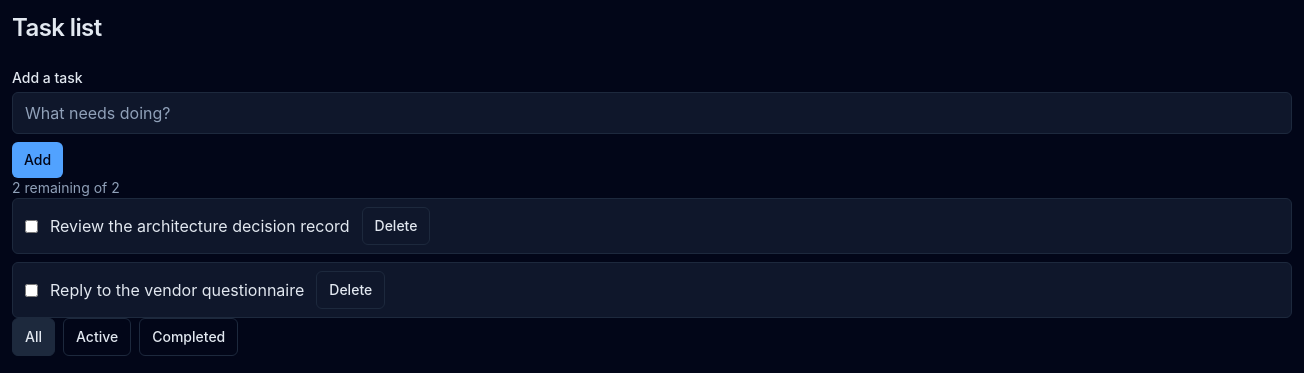
it: TasksPage › shows the empty state when a filter matches nothing
Click the button with test id "filter-completed" at (189, 337), box 139,318 -> 238,356
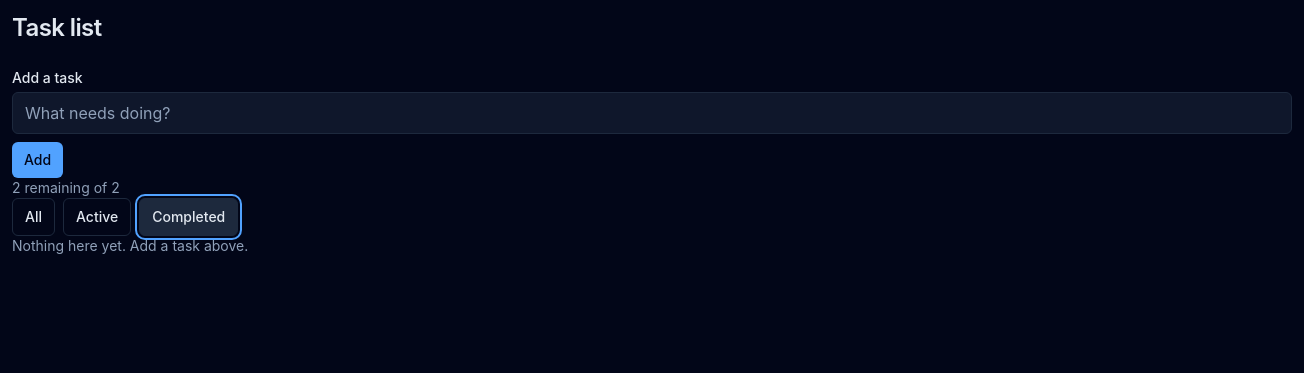
Expected: the text "Nothing here yet. Add a task above." is shown, 12,237 -> 248,254
Expected: no list items with test id "task-item" are shown
